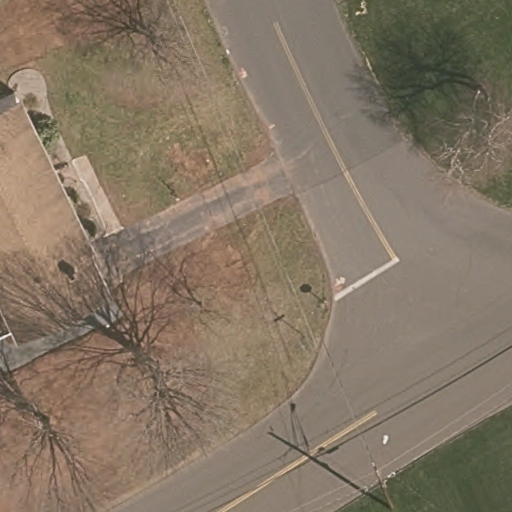DT: (363, 465, 396, 495)
